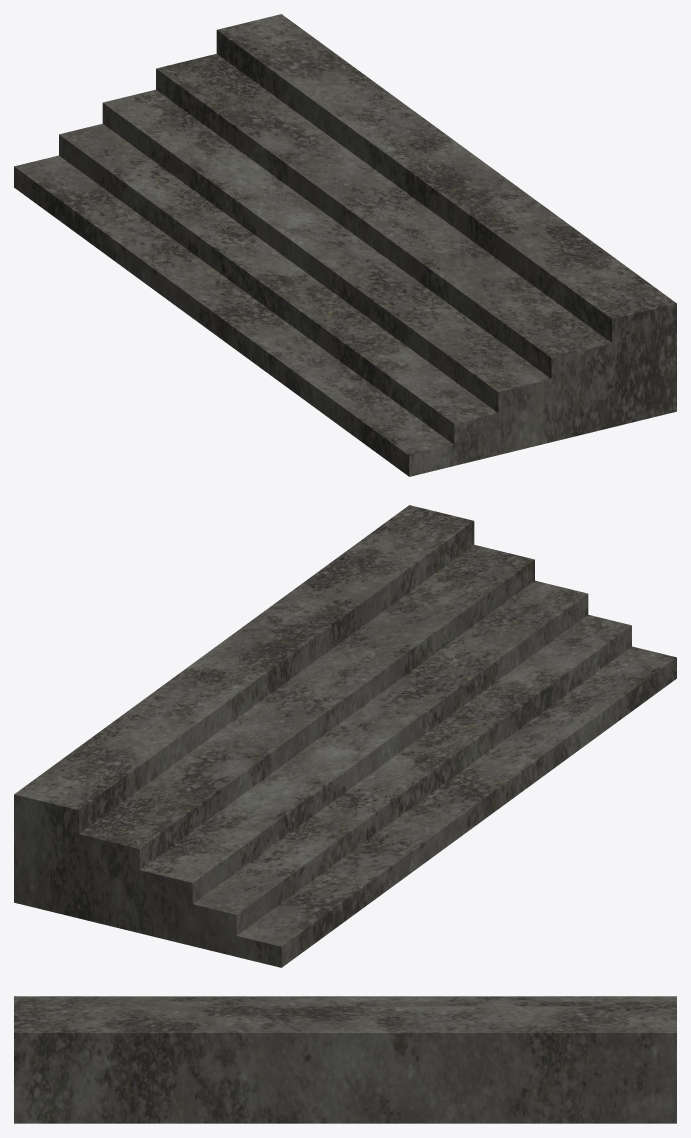
File: Escaleras 1.fbx
The picture shows the model from 3 angles, top to bottom: view 1: azimuth 30°, elevation 25°; view 2: azimuth 150°, elevation 25°; view 3: azimuth 270°, elevation 25°; orthographic projection. The views are drawn at different scales.
Parts seen in each view (by area): view 1: escaleras.001; view 2: escaleras.001; view 3: escaleras.001.
Boxes of the visible parts, bbox=[...] form: escaleras.001: bbox=[14, 14, 676, 476]; escaleras.001: bbox=[14, 505, 676, 967]; escaleras.001: bbox=[14, 996, 676, 1123].
Bounding box in the file's own units: 213 × 82.1 × 544.
Materials: 1 (1 with a texture image).
